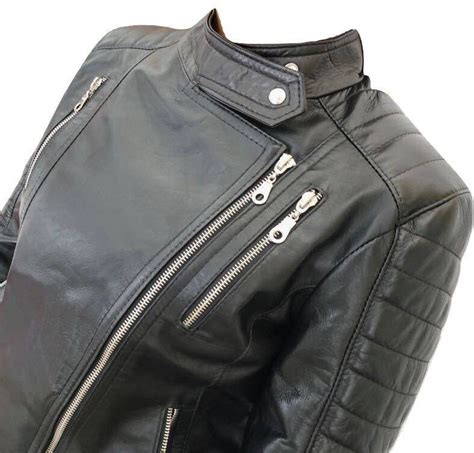cuero: (2, 9, 474, 453)
